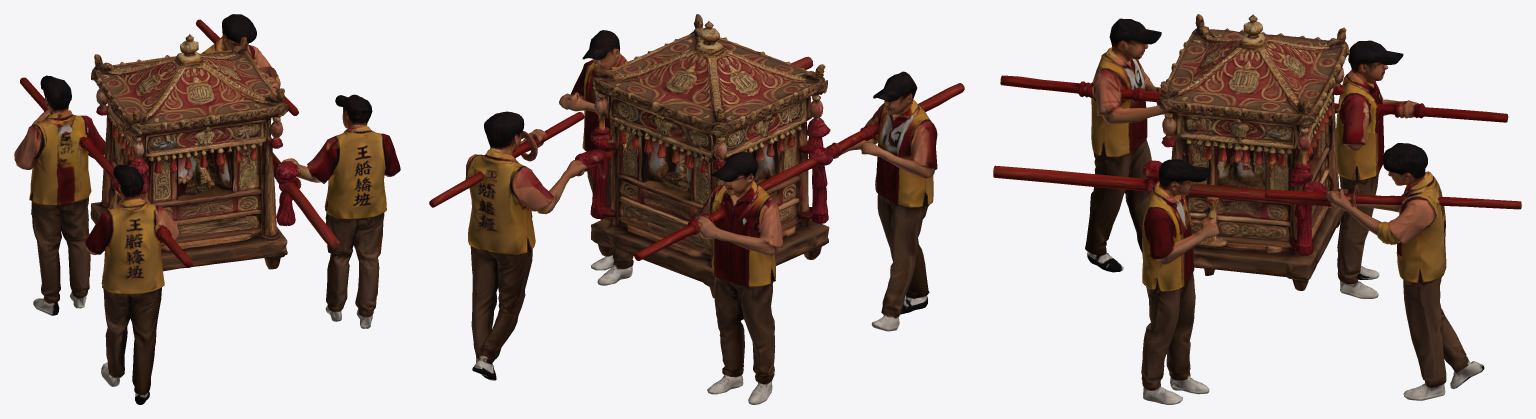
The model's file is P09_Wooden_Palaquin-v1.glb.
3 views of the same model, side by side, from view 1: azimuth 30°, elevation 25°; view 2: azimuth 150°, elevation 25°; view 3: azimuth 270°, elevation 25° (orthographic). The views are drawn at different scales.
Parts seen in each view (by area): view 1: tripo_node_dd6adb33-d783-4359-bd78-3386de282f33; view 2: tripo_node_dd6adb33-d783-4359-bd78-3386de282f33; view 3: tripo_node_dd6adb33-d783-4359-bd78-3386de282f33.
Part boxes in pixels (box(x1,y1,x2,y2)): tripo_node_dd6adb33-d783-4359-bd78-3386de282f33: box(14, 14, 400, 404); tripo_node_dd6adb33-d783-4359-bd78-3386de282f33: box(429, 14, 964, 404); tripo_node_dd6adb33-d783-4359-bd78-3386de282f33: box(993, 14, 1521, 404).
Size of the model in its own units: 0.7568 by 0.6465 by 0.9783.
1 material, 1 textured.
